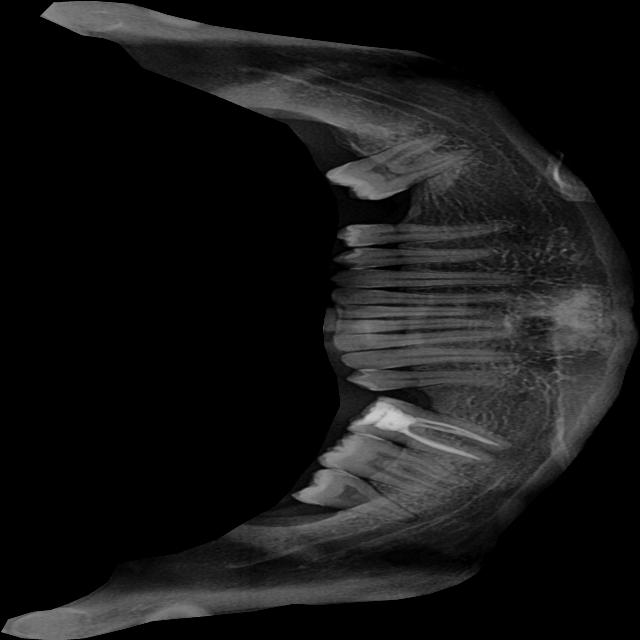mandibula: (1, 0, 640, 640)
